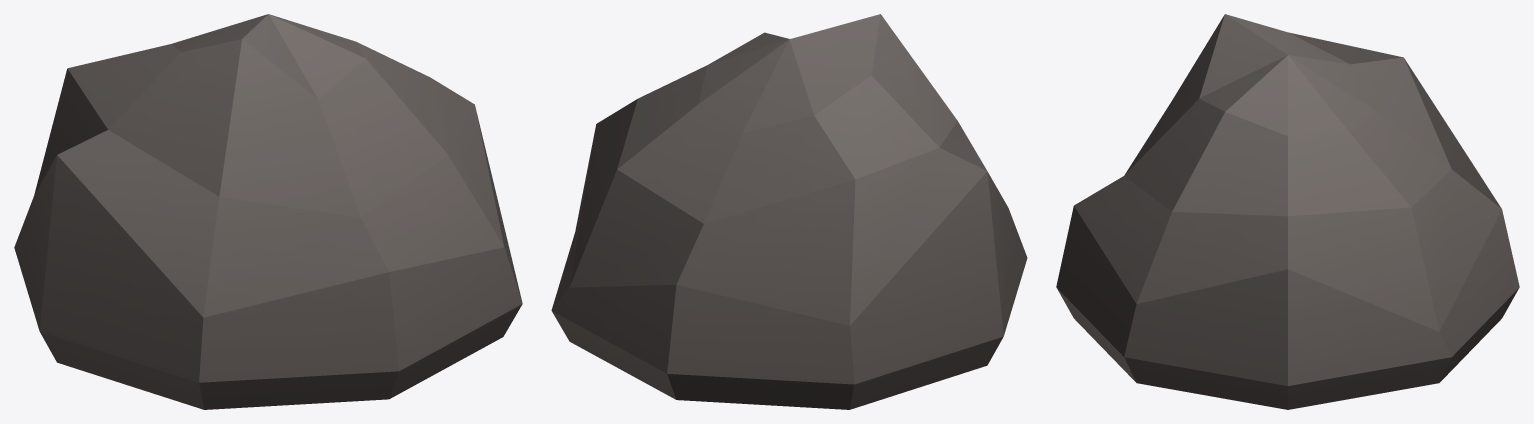
The model's file is pedra1.fbx.
The picture shows the model from 3 angles, left to right: view 1: azimuth 30°, elevation 25°; view 2: azimuth 150°, elevation 25°; view 3: azimuth 270°, elevation 25°; orthographic projection. The views are drawn at different scales.
Parts seen in each view (by area): view 1: pSphere1; view 2: pSphere1; view 3: pSphere1.
Boxes of the visible parts, x1,y1,x2,y2 form: pSphere1: (14, 14, 522, 409); pSphere1: (551, 14, 1027, 409); pSphere1: (1056, 14, 1519, 409).
Bounding box in the file's own units: 4.46 × 2.91 × 4.41.
